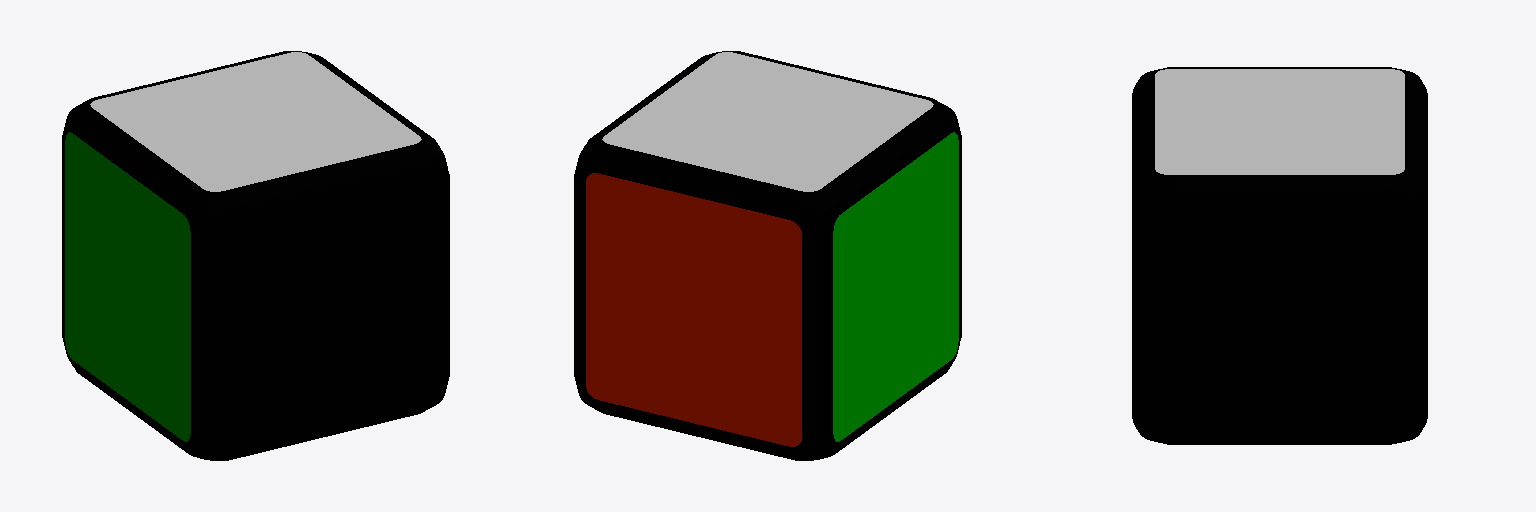
The model's file is corner_gow.obj.
3 views of the same model, side by side, from view 1: azimuth 30°, elevation 25°; view 2: azimuth 150°, elevation 25°; view 3: azimuth 270°, elevation 25° (orthographic).
Visible parts, largest first — view 1: Cube; view 2: Cube; view 3: Cube.
Part boxes in pixels (x1,y1,x2,y2): Cube: (62, 51, 449, 460); Cube: (574, 51, 961, 460); Cube: (1132, 67, 1427, 444).
Size of the model in its own units: 2 by 2 by 2.